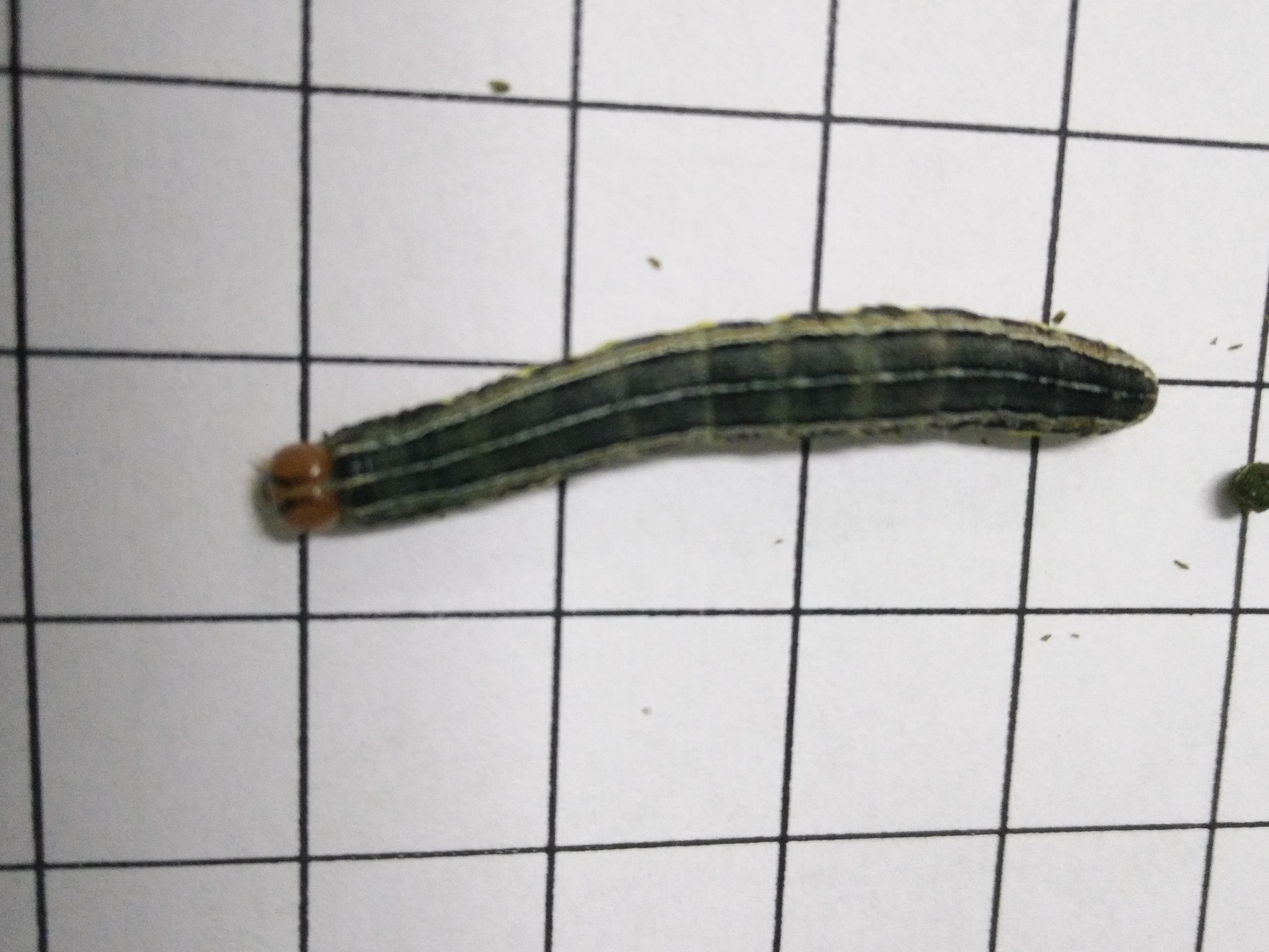caterpillars: (147, 208, 1187, 610)
